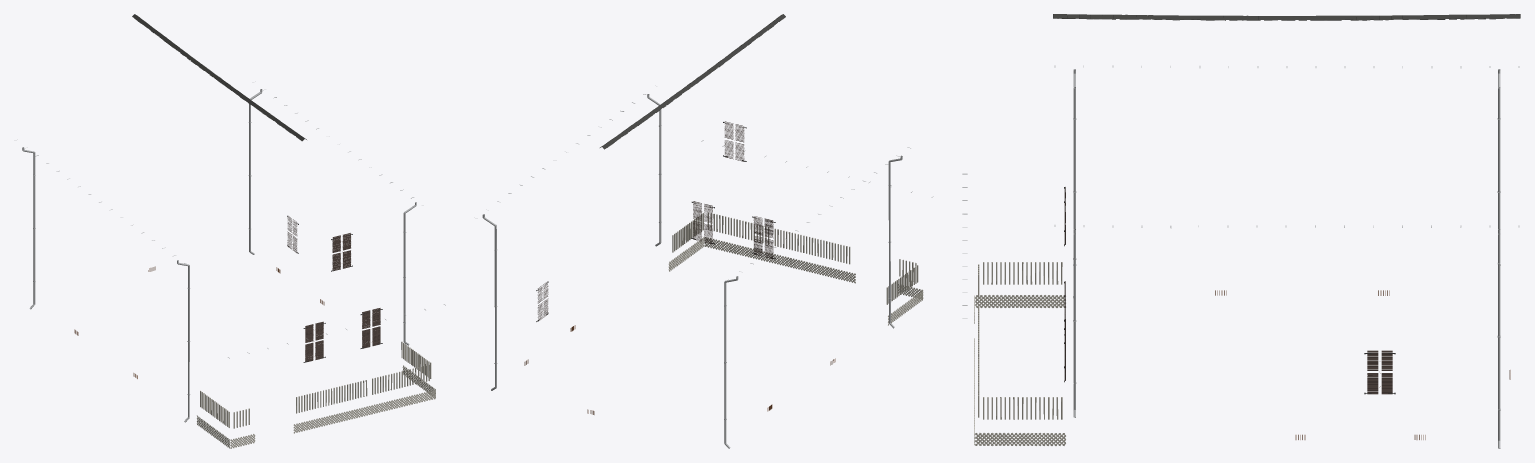
File: details_exterior.glb
3 views of the same model, side by side, from view 1: azimuth 30°, elevation 25°; view 2: azimuth 150°, elevation 25°; view 3: azimuth 270°, elevation 25° (orthographic). The views are drawn at different scales.
Visible parts, largest first — view 1: EXT2_porch_detail, EXT2_roof_trim_detail, EXT2_trim_detail; view 2: EXT2_porch_detail, EXT2_roof_trim_detail, EXT2_trim_detail; view 3: EXT2_roof_trim_detail, EXT2_porch_detail, EXT2_trim_detail.
Part boxes in pixels (x1,y1,x2,y2): EXT2_porch_detail: [197, 341, 435, 448]; EXT2_roof_trim_detail: [14, 14, 423, 422]; EXT2_trim_detail: [287, 215, 382, 362]; EXT2_porch_detail: [668, 212, 923, 325]; EXT2_roof_trim_detail: [474, 14, 910, 448]; EXT2_trim_detail: [536, 121, 775, 321]; EXT2_roof_trim_detail: [1053, 14, 1520, 448]; EXT2_porch_detail: [974, 262, 1065, 445]; EXT2_trim_detail: [1064, 187, 1395, 394].
Size of the model in its own units: 10.6 by 11.1 by 15.46.
